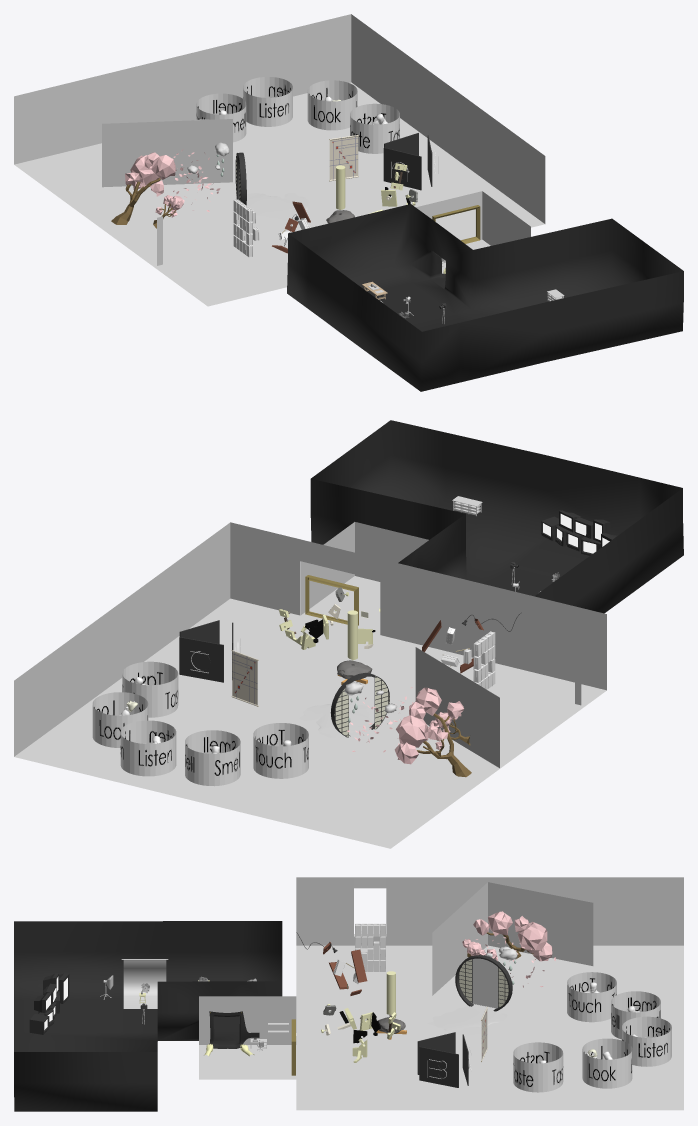
File: stage-test-15.glb
3 views of the same model, one above another, from view 1: azimuth 30°, elevation 25°; view 2: azimuth 150°, elevation 25°; view 3: azimuth 270°, elevation 25° (orthographic). The views are drawn at different scales.
Visible parts, largest first — view 1: gallery-ground, monitor-screen-world, digital-world, room, text-listen, text-look, text-taste, text-smell, tree-leaves-low-poly.009, scenery-reflection-on-the-ground-modified, typo-A-backwall.001, typo-graphic-textile.001 (+1 smaller); view 2: gallery-ground, monitor-screen-world, digital-world, room, text-listen, text-touch, text-smell, text-taste, tree-leaves-low-poly.009, text-look, typo-C-backwall.001, scenery-reflection-on-the-ground-modified (+5 smaller); view 3: gallery-ground, monitor-screen-world, digital-world, room, text-taste, text-look, text-touch, text-listen, photo-screen.001, tree-leaves-low-poly.009, text-smell, scenery-reflection-on-the-ground-modified (+7 smaller).
Boxes of the visible parts, left/top/right/bottom form: gallery-ground: left=14, top=14, right=545, bottom=306; monitor-screen-world: left=287, top=204, right=683, bottom=391; digital-world: left=102, top=119, right=236, bottom=235; room: left=416, top=191, right=530, bottom=273; text-listen: left=243, top=77, right=292, bottom=126; text-look: left=307, top=80, right=357, bottom=130; text-taste: left=350, top=103, right=399, bottom=153; text-smell: left=196, top=93, right=246, bottom=142; tree-leaves-low-poly.009: left=125, top=152, right=175, bottom=196; scenery-reflection-on-the-ground-modified: left=246, top=193, right=310, bottom=220; typo-A-backwall.001: left=383, top=147, right=421, bottom=190; typo-graphic-textile.001: left=329, top=135, right=358, bottom=181; gallery-ground: left=14, top=522, right=606, bottom=848; monitor-screen-world: left=310, top=420, right=683, bottom=613; digital-world: left=310, top=647, right=499, bottom=799; room: left=300, top=522, right=428, bottom=634; text-listen: left=120, top=720, right=176, bottom=776; text-touch: left=253, top=723, right=308, bottom=778; text-smell: left=185, top=730, right=240, bottom=786; text-taste: left=122, top=661, right=178, bottom=717; tree-leaves-low-poly.009: left=394, top=687, right=463, bottom=764; text-look: left=92, top=692, right=148, bottom=747; typo-C-backwall.001: left=179, top=637, right=223, bottom=682; scenery-reflection-on-the-ground-modified: left=299, top=700, right=373, bottom=737; gallery-ground: left=296, top=877, right=683, bottom=1110; monitor-screen-world: left=14, top=921, right=282, bottom=1111; digital-world: left=432, top=882, right=593, bottom=1016; room: left=199, top=996, right=296, bottom=1079; text-taste: left=513, top=1042, right=563, bottom=1092; text-look: left=582, top=1038, right=632, bottom=1088; text-touch: left=567, top=972, right=616, bottom=1022; text-listen: left=622, top=1016, right=671, bottom=1066; photo-screen.001: left=123, top=959, right=166, bottom=1008; tree-leaves-low-poly.009: left=473, top=911, right=552, bottom=961; text-smell: left=611, top=991, right=660, bottom=1039; scenery-reflection-on-the-ground-modified: left=427, top=1005, right=507, bottom=1035.
Bounding box in the file's own units: 413 × 83.05 × 699.
54 materials, 2 textured.
